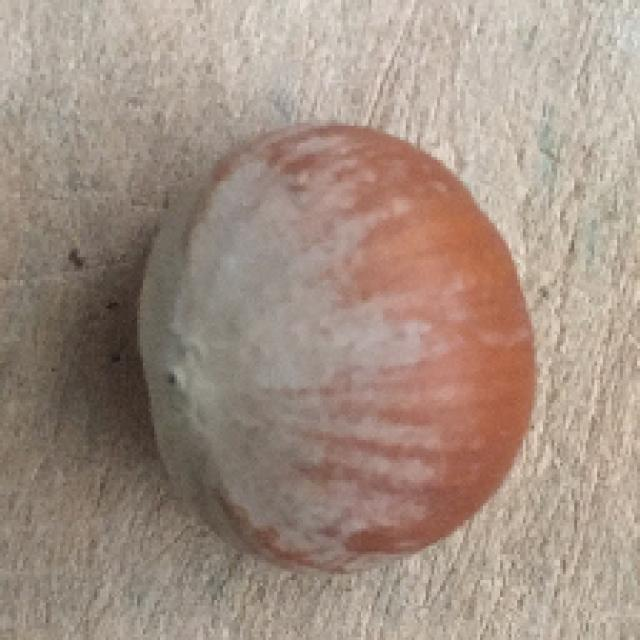qualityHazelnut: (144, 122, 539, 569)
